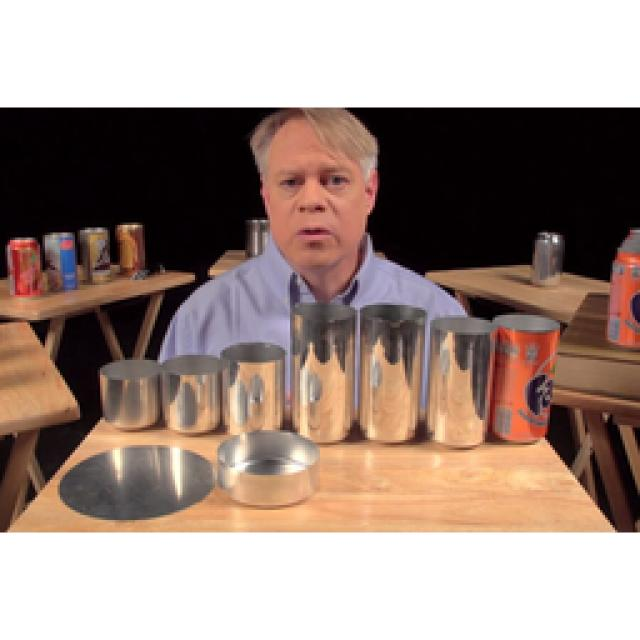alumunium: (100, 302, 558, 448), (60, 430, 318, 520), (8, 222, 140, 292), (605, 228, 638, 348), (535, 232, 558, 278)
